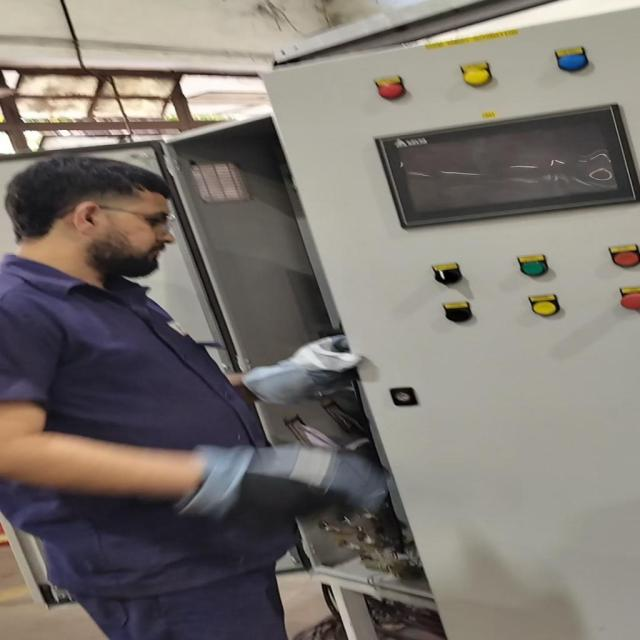Gloves-Detection: (178, 437, 374, 526), (227, 330, 362, 395)
